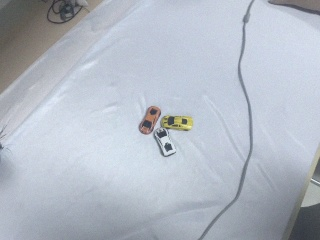phone: (154, 127, 176, 157)
toy_car: (139, 106, 193, 156), (47, 1, 86, 24), (139, 106, 161, 135), (161, 115, 193, 130)
